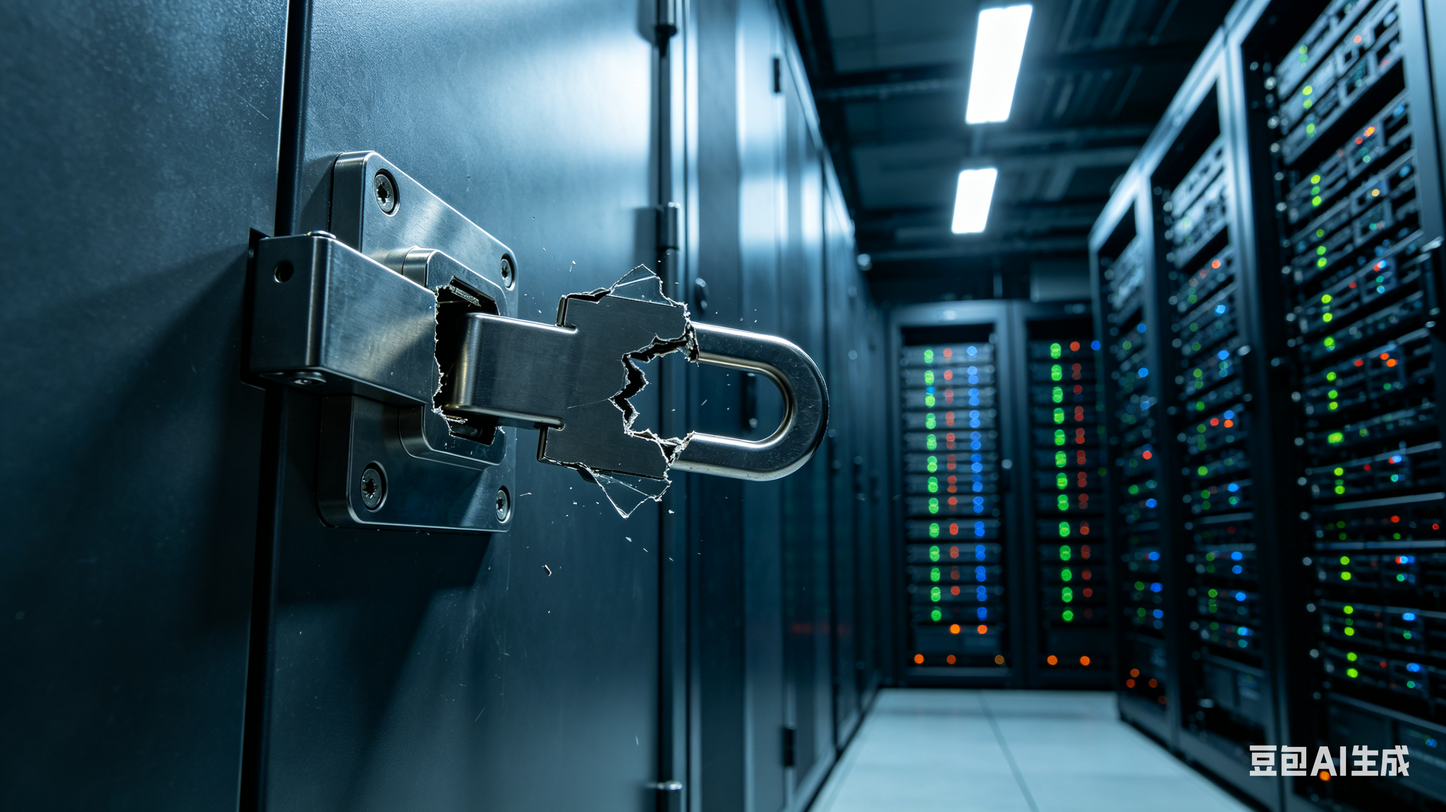BadLock: (404, 252, 699, 484)
